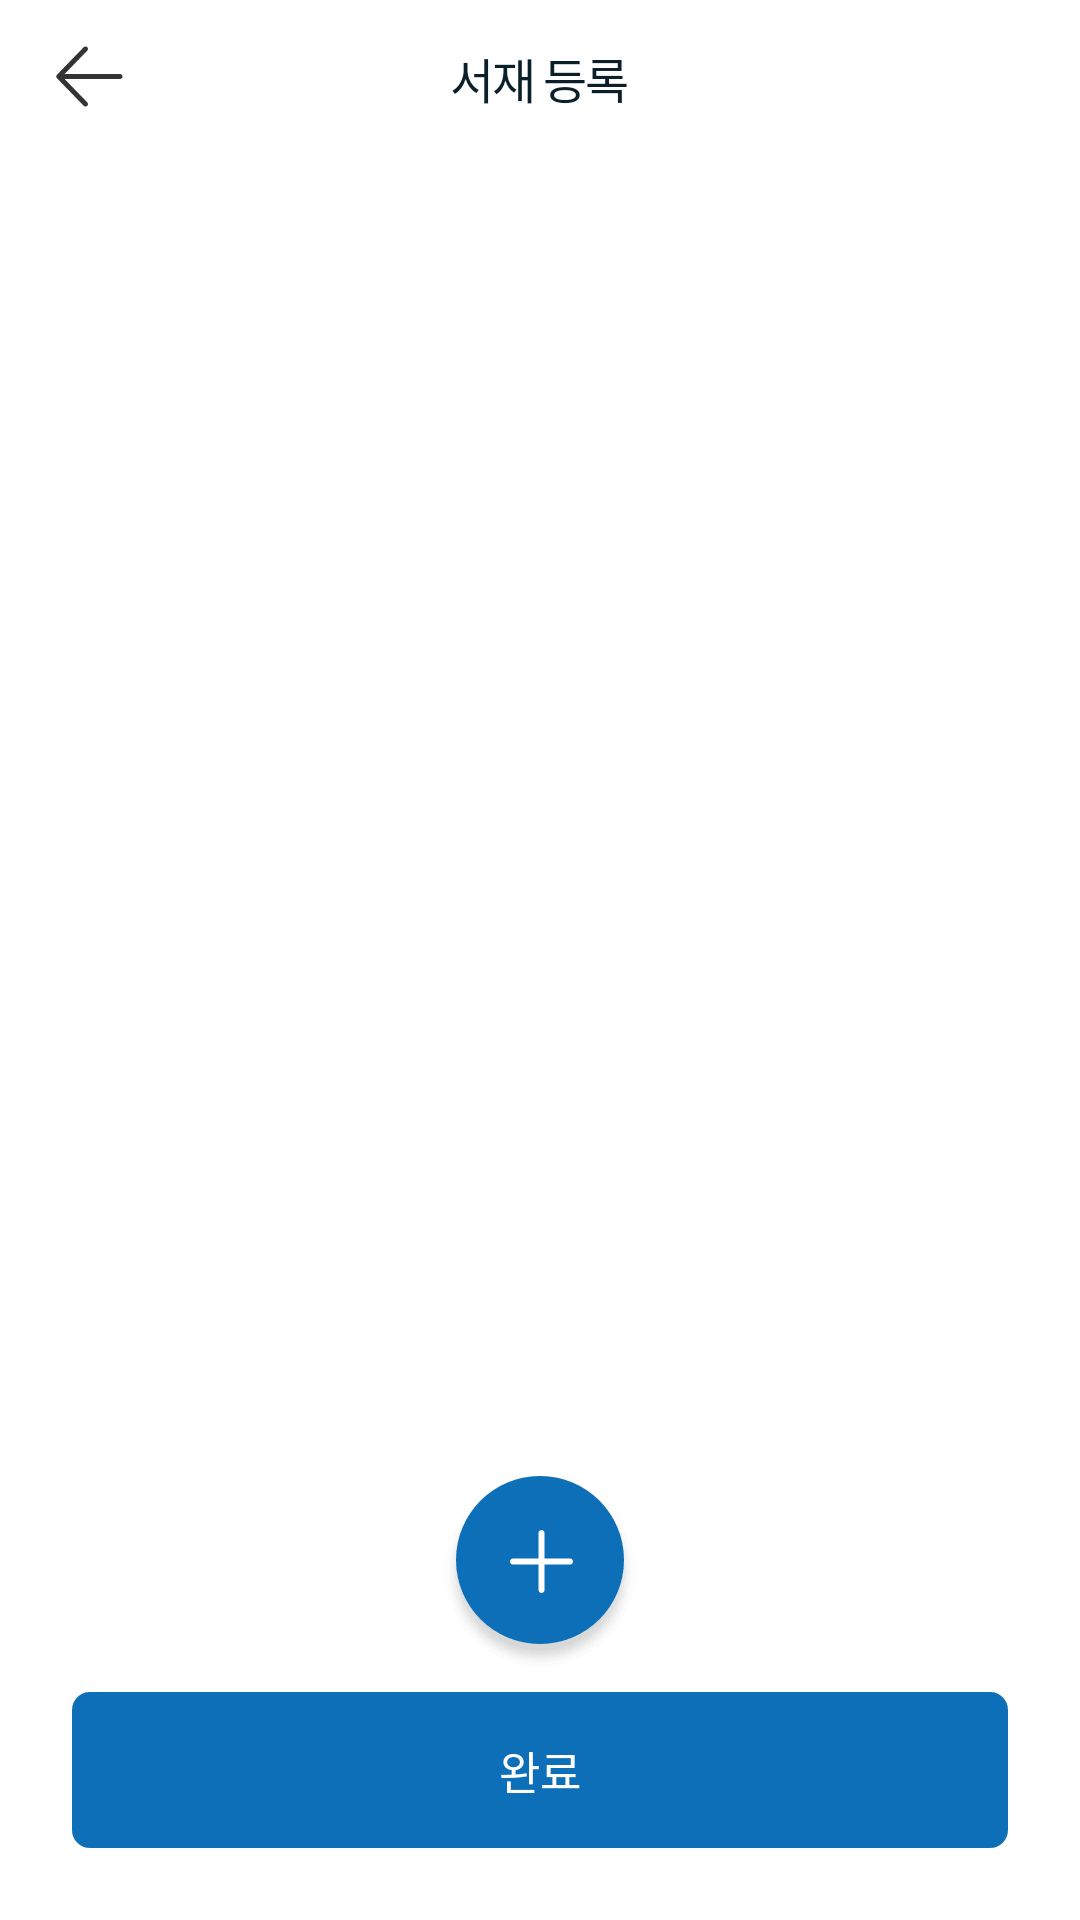

Icons on this 1080 x 1920 Android screen, each with its box as (x1, y1, x2, y2):
arrow left: (56, 46, 123, 107)
plus: (456, 1476, 624, 1655)
